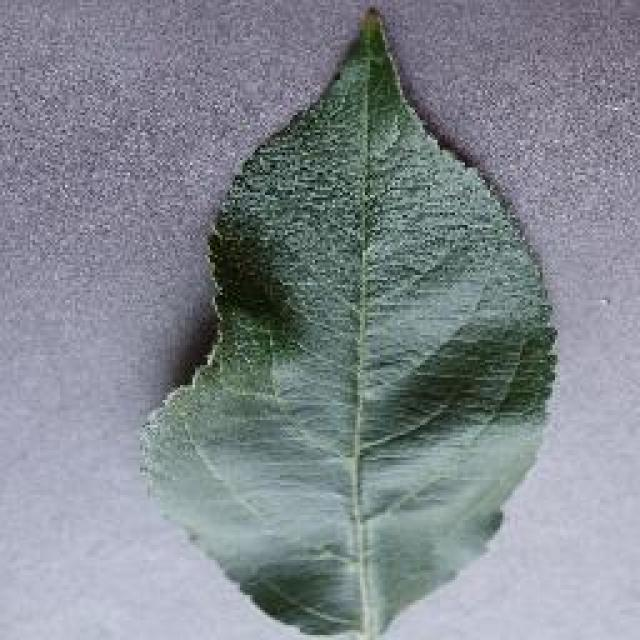apple healthy: (135, 5, 560, 637)
